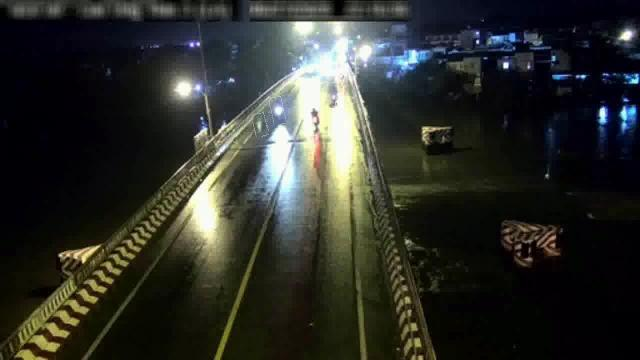Bike: (270, 97, 286, 125), (252, 114, 268, 136), (326, 82, 338, 108), (308, 108, 320, 130)
